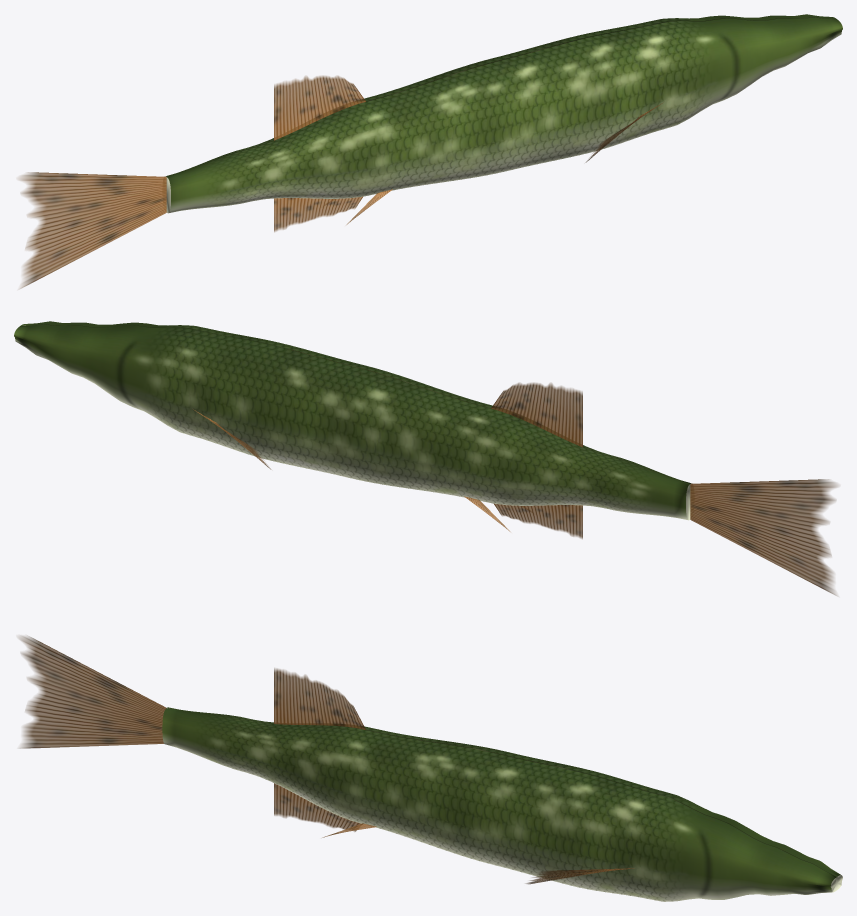
The model's file is chortan.glb.
The picture shows the model from 3 angles, top to bottom: view 1: azimuth 30°, elevation 25°; view 2: azimuth 150°, elevation 25°; view 3: azimuth 330°, elevation 25°; orthographic projection.
Visible parts, largest first — view 1: chortan; view 2: chortan; view 3: chortan.
Boxes of the visible parts, left/top/right/bottom form: chortan: left=18, top=14, right=842, bottom=288; chortan: left=14, top=321, right=838, bottom=595; chortan: left=18, top=636, right=842, bottom=901.
Size of the model in its own units: 0.8842 by 0.1598 by 0.1133.
Materials: 1 (1 with a texture image).
